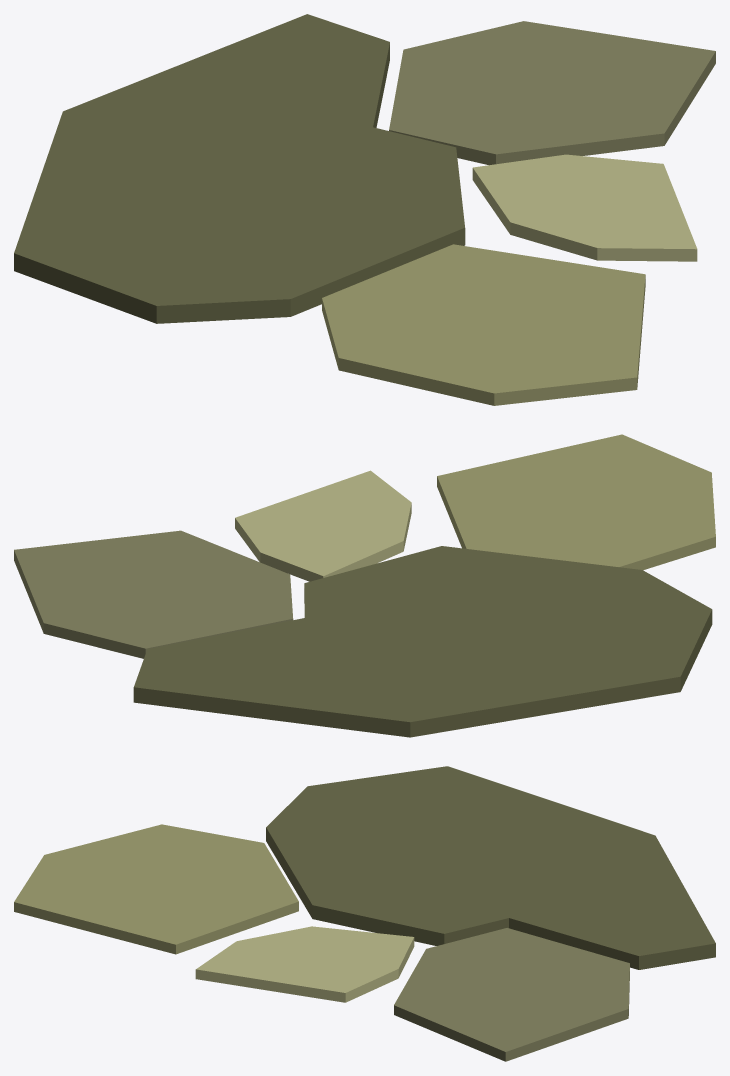
File: RH_Stone03.fbx
3 renders of one model, top to bottom at view 1: azimuth 30°, elevation 25°; view 2: azimuth 150°, elevation 25°; view 3: azimuth 270°, elevation 25°, orthographic. The views are drawn at different scales.
Parts seen in each view (by area): view 1: RH_Stone03; view 2: RH_Stone03; view 3: RH_Stone03.
Part boxes in pixels (x1,y1,x2,y2): RH_Stone03: (14,14,715,405); RH_Stone03: (14,434,715,737); RH_Stone03: (14,766,715,1061).
Bounding box in the file's own units: 108 × 2.5 × 114.
1 material, 1 textured.
